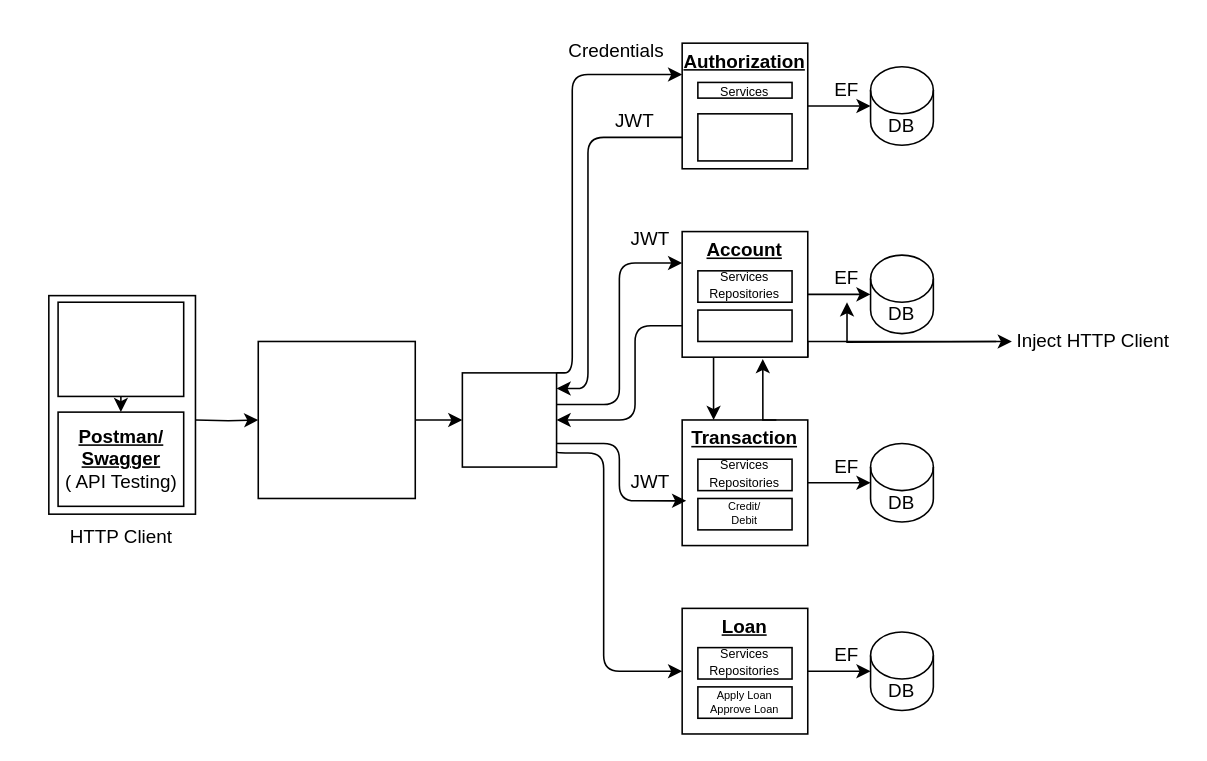
The diagram is 1207 pixels wide and 761 high, and some of its shapes have lost their labels. Each missing label, with the centre of its shape:
Browser Window: pixel 120 348
Claims: Email, Role, UserID: pixel 744 136
Creation, Credit/ Debit, Retrieval: pixel 744 325
Gateway 7000: pixel 509 419
MVC Login: pixel 336 419
